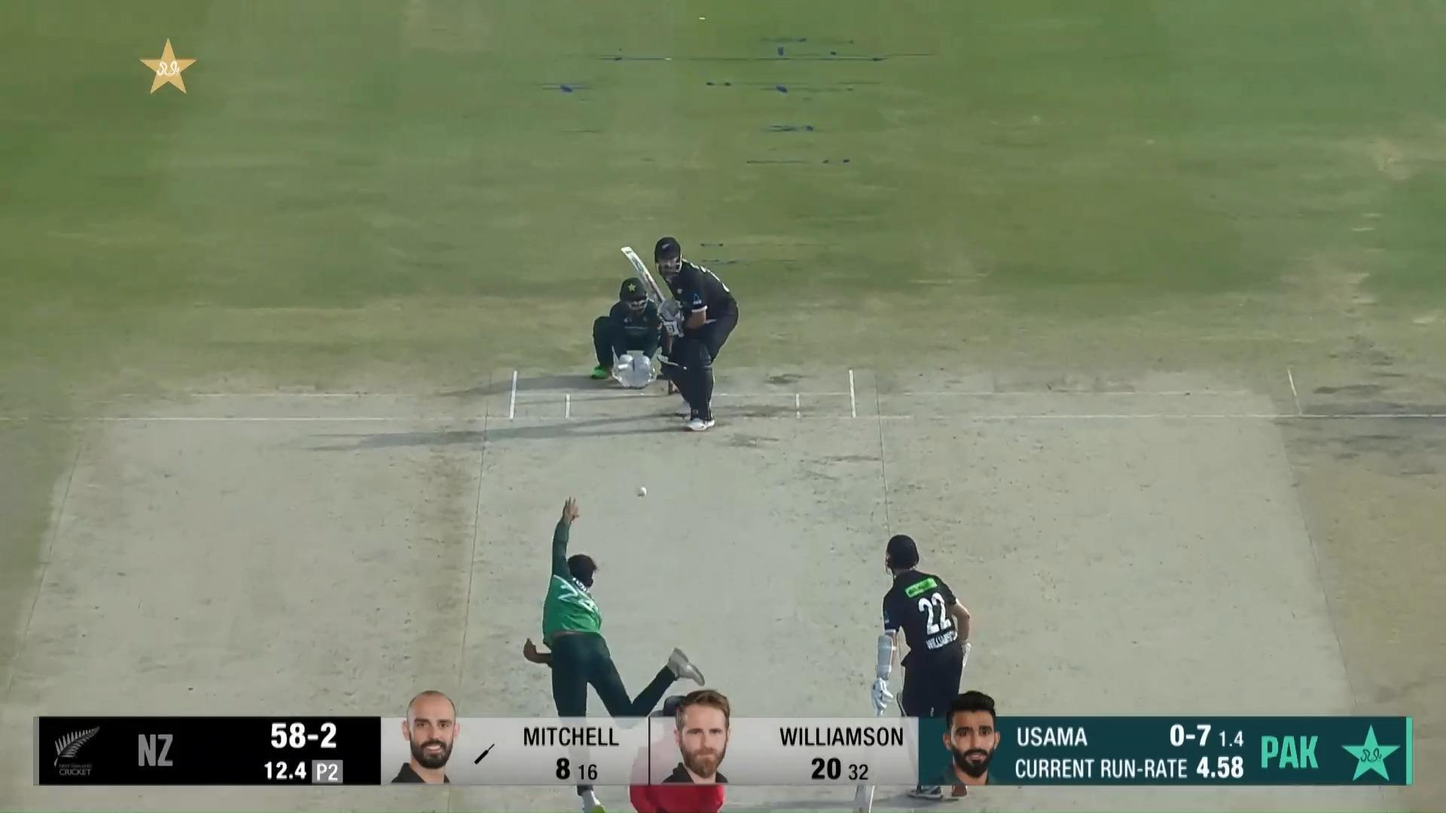BM 1: (620, 236, 739, 431)
BO: (523, 496, 704, 813)
